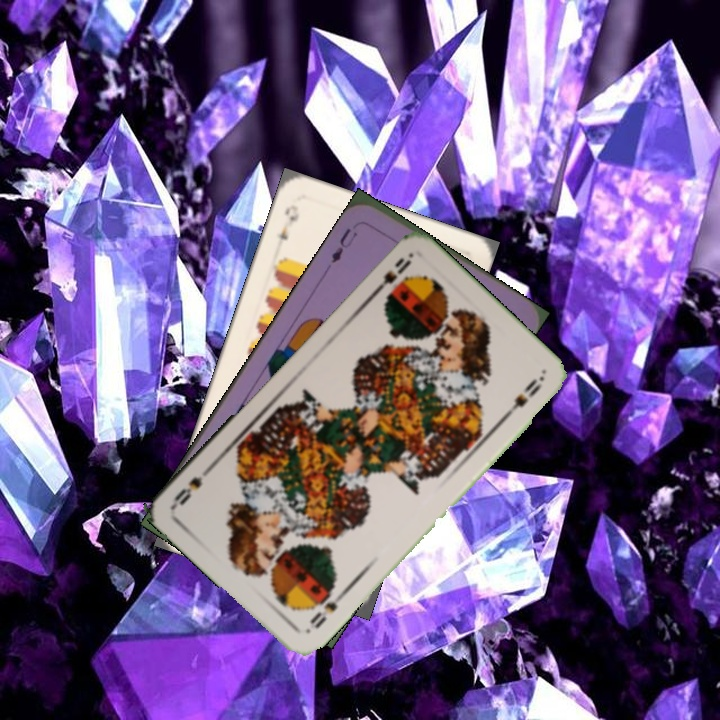E9: (275, 200, 302, 243)
EU: (327, 224, 360, 266)
SO: (368, 251, 414, 299), (305, 587, 348, 632)
